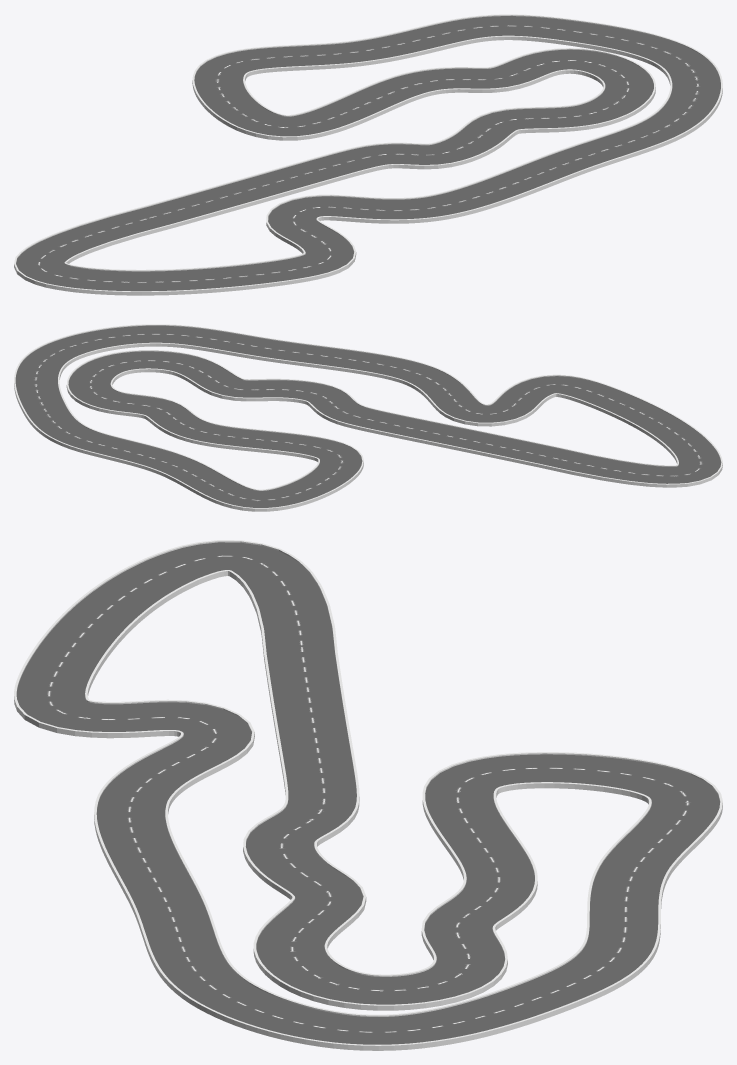
File: SlightlyHarderTrack.obj
The picture shows the model from 3 angles, top to bottom: view 1: azimuth 30°, elevation 25°; view 2: azimuth 150°, elevation 25°; view 3: azimuth 270°, elevation 25°; orthographic projection. The views are drawn at different scales.
Parts seen in each view (by area): view 1: RoadPiece; view 2: RoadPiece; view 3: RoadPiece.
Boxes of the visible parts, x1,y1,x2,y2 form: RoadPiece: (14,14,722,295); RoadPiece: (14,324,722,511); RoadPiece: (14,540,722,1050).
Bounding box in the file's own units: 651 × 3.03 × 385.
